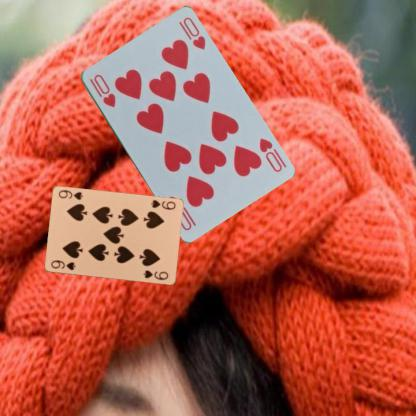10h: (86, 71, 116, 109), (256, 136, 283, 174)
9s: (48, 258, 77, 272), (148, 197, 176, 211)
